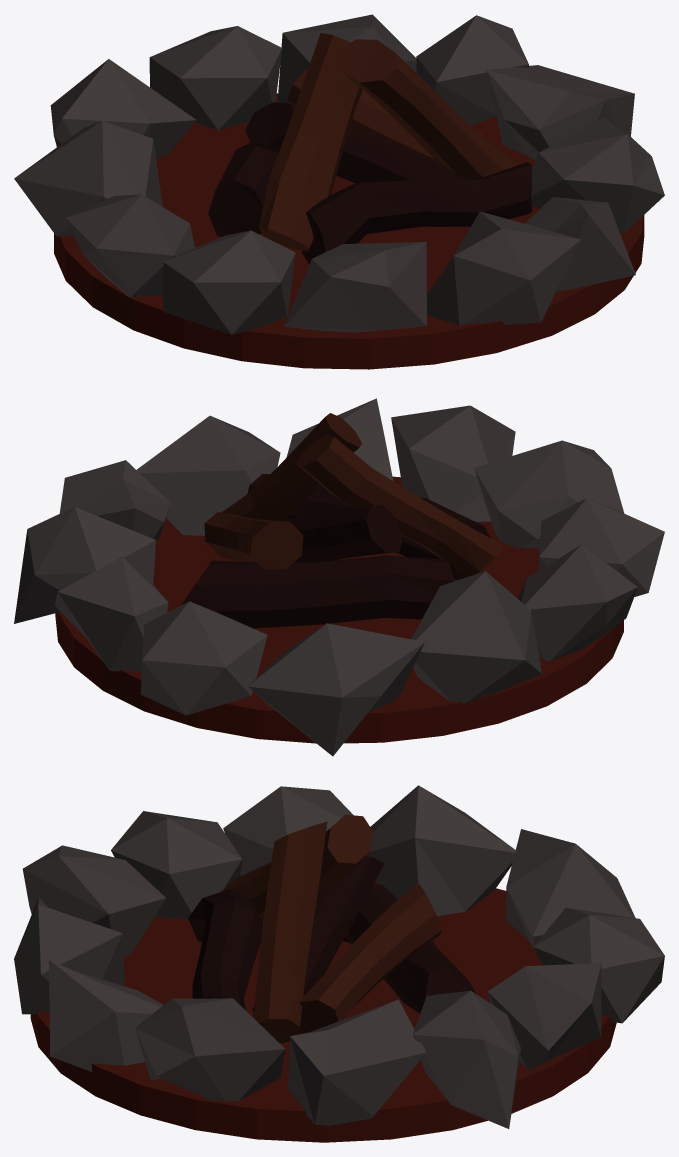
Rendered from fogata.fbx.
3 views of the same model, one above another, from view 1: azimuth 30°, elevation 25°; view 2: azimuth 150°, elevation 25°; view 3: azimuth 270°, elevation 25° (orthographic). The views are drawn at different scales.
Parts seen in each view (by area): view 1: Circle001, GeoSphere003, Cylinder057, Cylinder053, GeoSphere011, GeoSphere013, GeoSphere002, GeoSphere012, Cylinder058, GeoSphere008, GeoSphere007, GeoSphere010 (+7 smaller); view 2: Circle001, Cylinder054, GeoSphere005, GeoSphere012, GeoSphere002, GeoSphere011, GeoSphere003, GeoSphere008, Cylinder057, GeoSphere006, GeoSphere010, GeoSphere004 (+7 smaller); view 3: Circle001, GeoSphere012, GeoSphere007, GeoSphere008, GeoSphere006, Cylinder058, GeoSphere013, GeoSphere004, GeoSphere011, GeoSphere005, GeoSphere009, GeoSphere002 (+7 smaller).
Boxes of the visible parts, box(x1,y1,x2,y2) form: Circle001: box(54, 93, 644, 369); GeoSphere003: box(426, 211, 580, 325); Cylinder057: box(259, 33, 362, 251); Cylinder053: box(302, 162, 531, 264); GeoSphere011: box(284, 241, 426, 332); GeoSphere013: box(163, 230, 295, 334); GeoSphere002: box(149, 26, 282, 130); GeoSphere012: box(14, 120, 162, 236); Cylinder058: box(340, 39, 516, 179); GeoSphere008: box(531, 117, 664, 232); GeoSphere007: box(486, 65, 634, 160); GeoSphere010: box(66, 194, 194, 297); Circle001: box(55, 476, 623, 743); Cylinder054: box(181, 555, 454, 628); GeoSphere005: box(248, 623, 424, 756); GeoSphere012: box(411, 571, 541, 704); GeoSphere002: box(140, 601, 267, 715); GeoSphere011: box(474, 440, 624, 548); GeoSphere003: box(391, 405, 515, 522); GeoSphere008: box(137, 415, 280, 535); Cylinder057: box(296, 434, 503, 576); GeoSphere006: box(14, 507, 155, 623); GeoSphere010: box(518, 544, 637, 660); GeoSphere004: box(55, 556, 168, 671); Circle001: box(30, 874, 616, 1142); GeoSphere012: box(365, 785, 515, 916); GeoSphere007: box(288, 999, 426, 1125); GeoSphere008: box(135, 998, 285, 1101); GeoSphere006: box(412, 990, 520, 1128); Cylinder058: box(253, 821, 327, 1042); GeoSphere013: box(111, 811, 242, 918); GeoSphere004: box(487, 963, 601, 1070); GeoSphere011: box(22, 845, 165, 956); GeoSphere005: box(506, 829, 635, 950); GeoSphere009: box(49, 960, 163, 1071); GeoSphere002: box(533, 907, 664, 1023).
Bounding box in the file's own units: 77.44 × 27.55 × 77.59.
